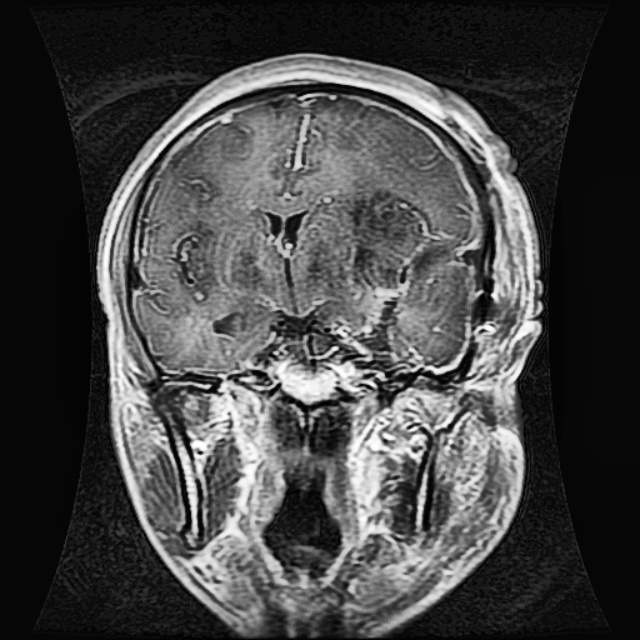Meningioma: (348, 189, 470, 365)
